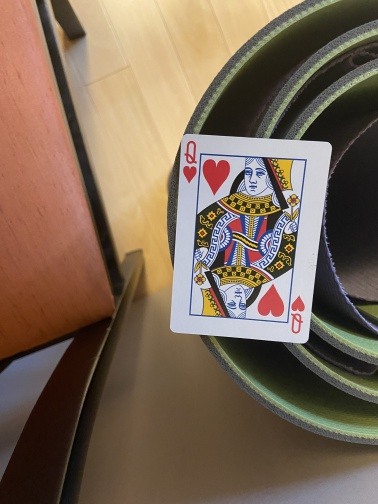queen: (169, 134, 333, 345)
